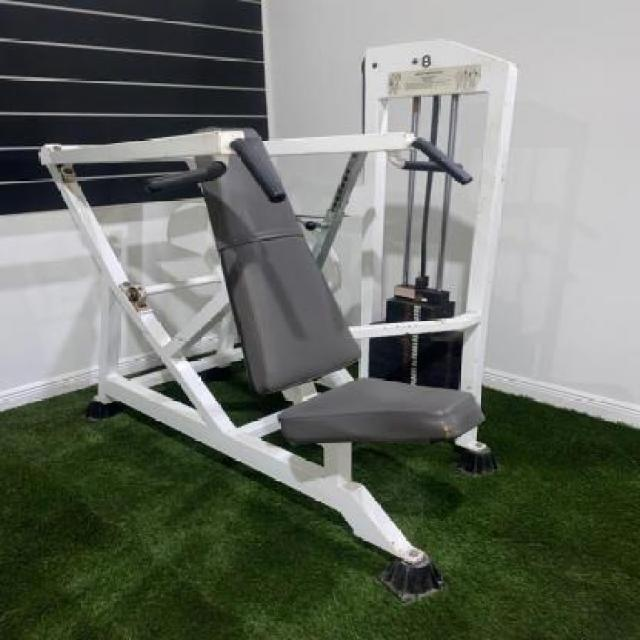shoulder press machine: (28, 28, 538, 612)
